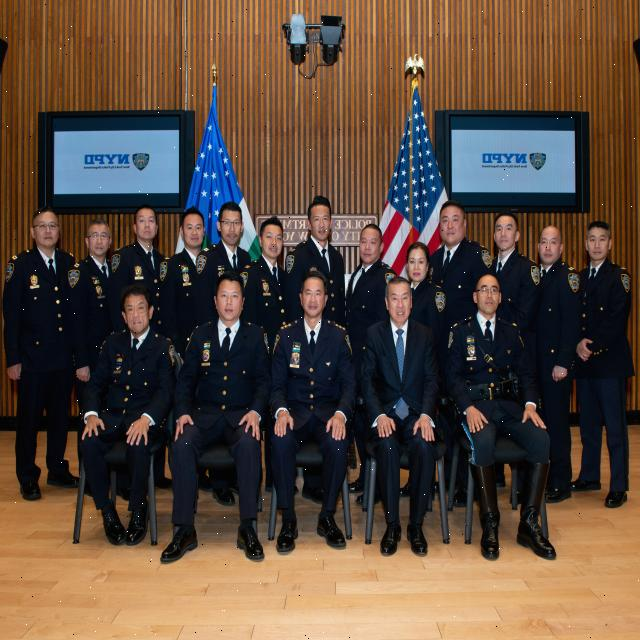police: (8, 192, 386, 346), (429, 192, 577, 471), (444, 264, 555, 548), (177, 259, 272, 553), (70, 276, 170, 534), (266, 271, 348, 538), (574, 193, 640, 497), (10, 201, 62, 508), (68, 204, 117, 390)
